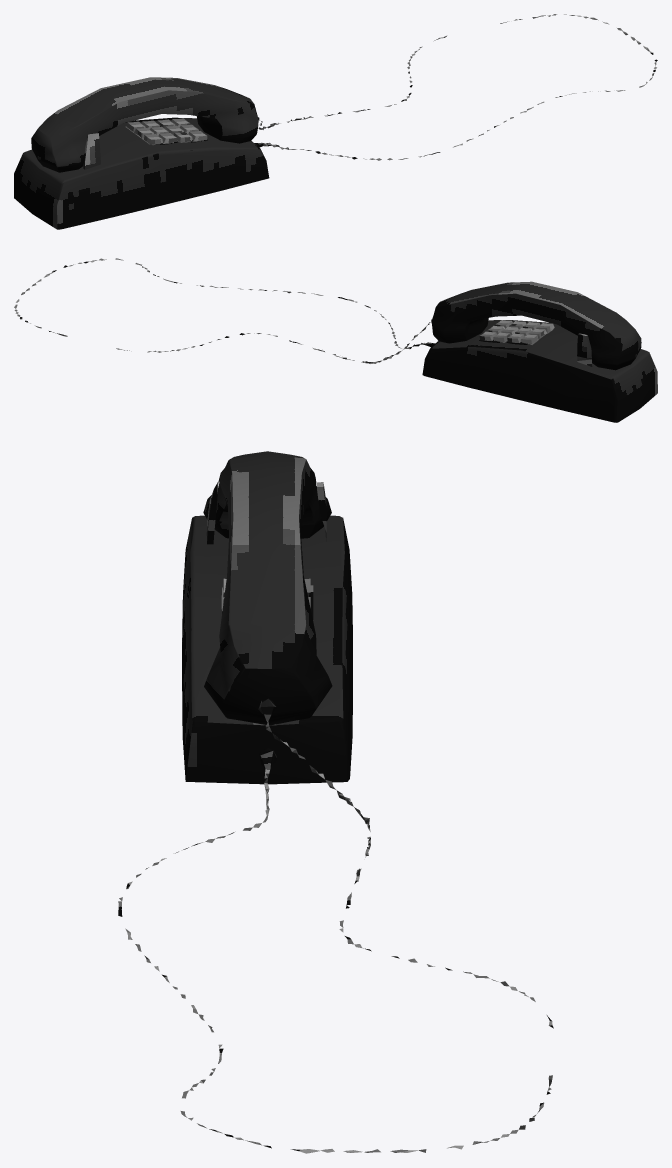
Rendered from room_phone.glb.
The picture shows the model from 3 angles, top to bottom: view 1: azimuth 30°, elevation 25°; view 2: azimuth 150°, elevation 25°; view 3: azimuth 270°, elevation 25°; orthographic projection. The views are drawn at different scales.
Visible parts, largest first — view 1: mesh; view 2: mesh; view 3: mesh.
Part boxes in pixels (x1,y1,x2,y2): mesh: (14,14,657,229); mesh: (14,258,657,422); mesh: (118,451,553,1153).
Size of the model in its own units: 0.488 by 0.075 by 0.1585.
Materials: 1 (1 with a texture image).
